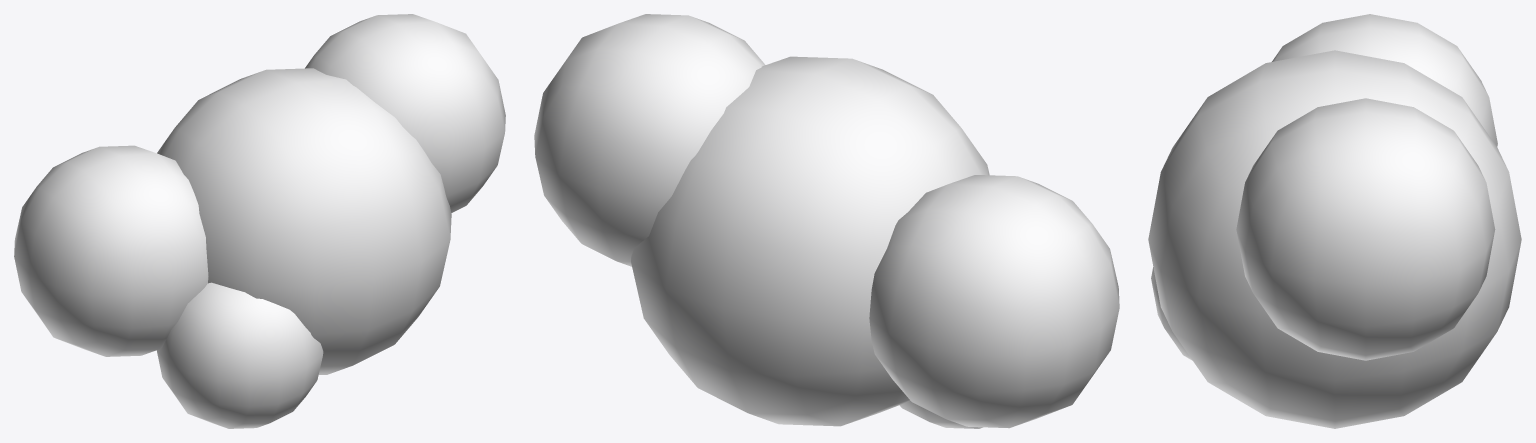
Rendered from Farm_8_Cloud_3.glb.
3 views of the same model, side by side, from view 1: azimuth 30°, elevation 25°; view 2: azimuth 150°, elevation 25°; view 3: azimuth 270°, elevation 25° (orthographic). The views are drawn at different scales.
Visible parts, largest first — view 1: Farm_8_Cloud_3; view 2: Farm_8_Cloud_3; view 3: Farm_8_Cloud_3.
Boxes of the visible parts, x1=… form: Farm_8_Cloud_3: x1=14, y1=14, x2=505, y2=428; Farm_8_Cloud_3: x1=534, y1=14, x2=1119, y2=428; Farm_8_Cloud_3: x1=1148, y1=14, x2=1521, y2=428.
Bounding box in the file's own units: 3.04 × 1.97 × 1.76.
1 material, 1 textured.
